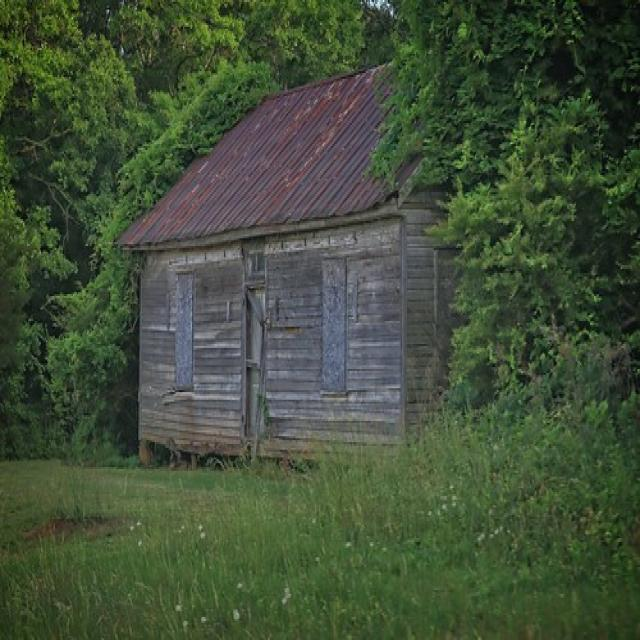Normal_building: (115, 44, 528, 475)
